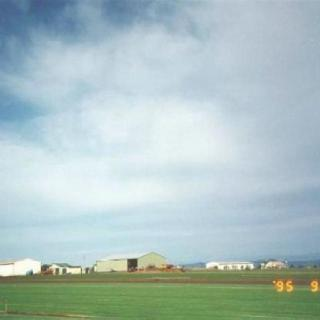Cirrostratus: (0, 0, 320, 242)
